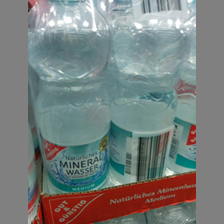water: (28, 1, 111, 193), (110, 1, 180, 185)
